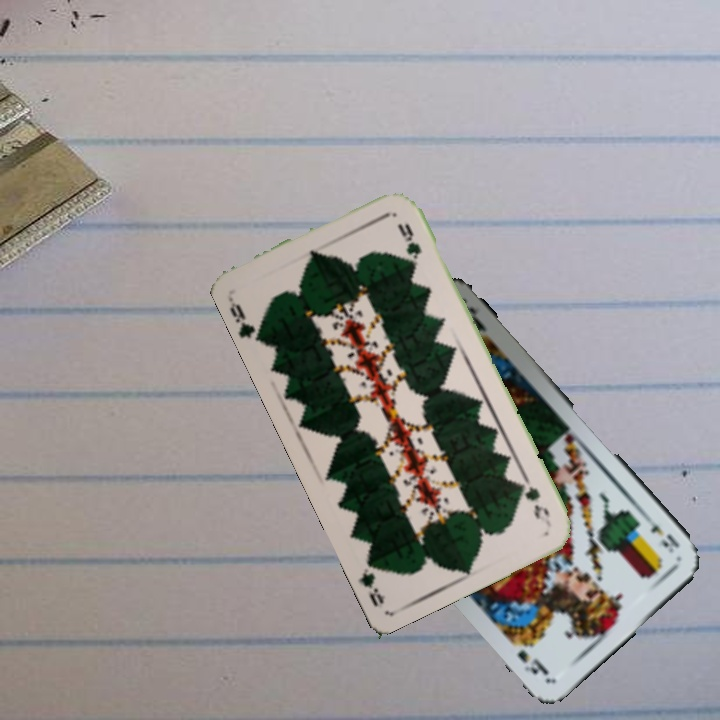EK: (640, 510, 683, 556)
G9: (224, 293, 264, 345), (515, 473, 553, 522)
